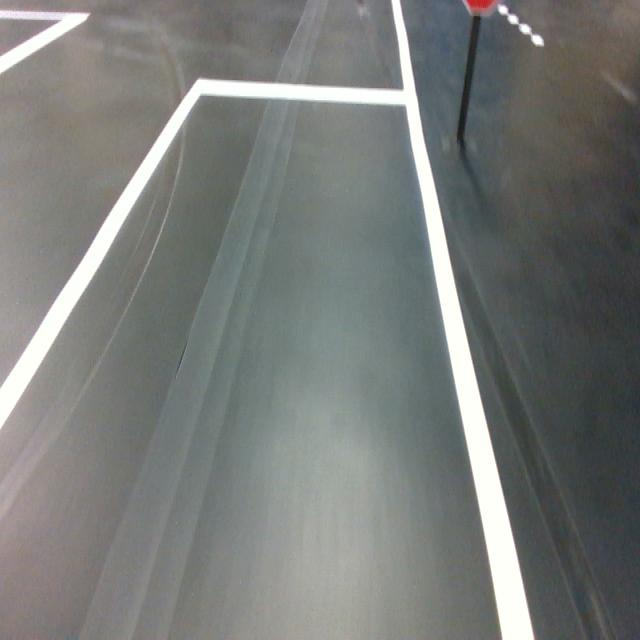stop-sign: (462, 0, 501, 17)
